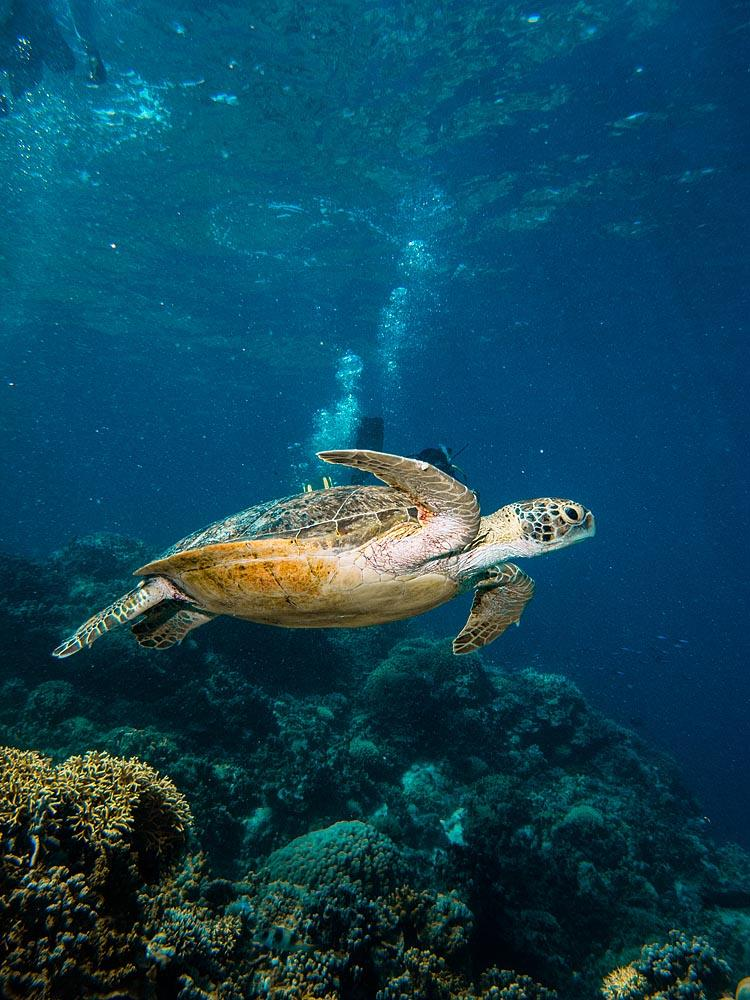turtle: (486, 485, 604, 555)
